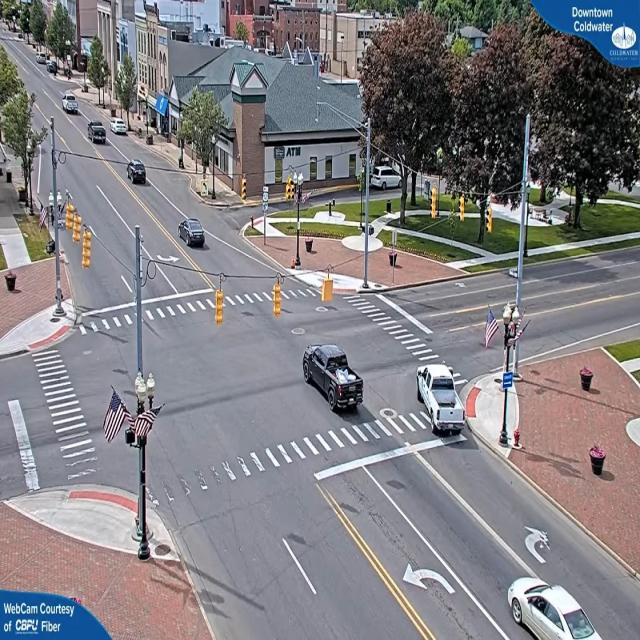car: (502, 580, 622, 638), (305, 344, 364, 412), (416, 364, 464, 438), (178, 218, 206, 248), (127, 161, 148, 186), (87, 123, 107, 145), (62, 93, 79, 114), (112, 120, 130, 137)
